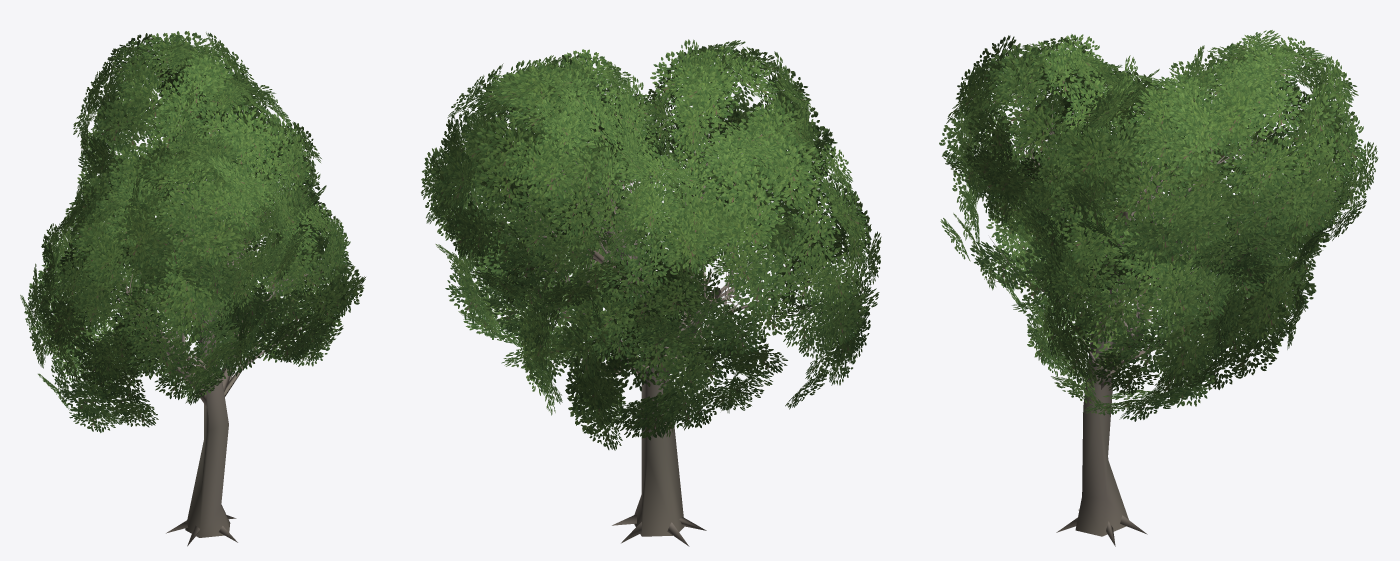
File: eco_tree_forest_tall_a_LOD1.glb
3 views of the same model, side by side, from view 1: azimuth 30°, elevation 25°; view 2: azimuth 150°, elevation 25°; view 3: azimuth 270°, elevation 25° (orthographic). The views are drawn at different scales.
Parts seen in each view (by area): view 1: eco_tree_forest_tall_a_LOD1; view 2: eco_tree_forest_tall_a_LOD1; view 3: eco_tree_forest_tall_a_LOD1.
Part boxes in pixels (<box>): eco_tree_forest_tall_a_LOD1: <box>20,31,365,546</box>; eco_tree_forest_tall_a_LOD1: <box>421,39,881,546</box>; eco_tree_forest_tall_a_LOD1: <box>939,30,1378,546</box>.
Size of the model in its own units: 6.59 by 8.05 by 6.52.
Materials: 2 (1 with a texture image).
